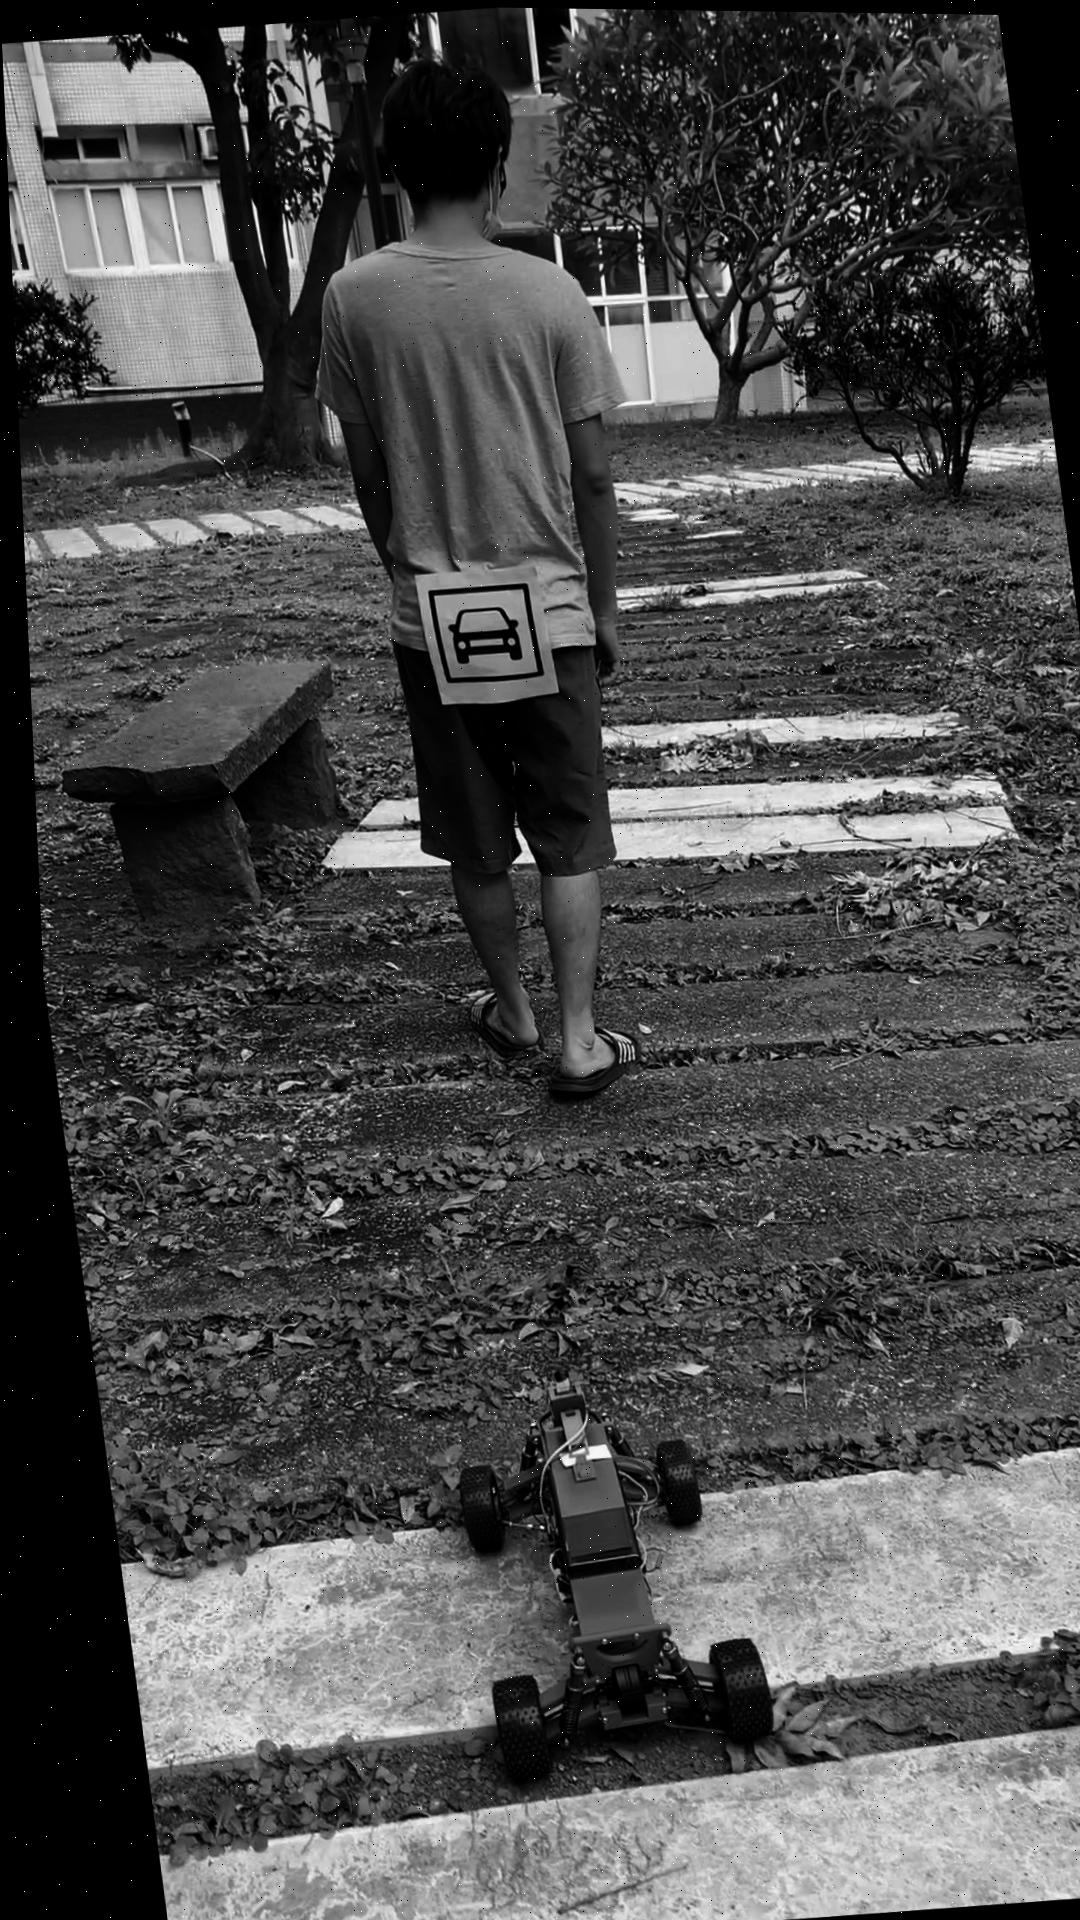car_img: (421, 579, 538, 686)
